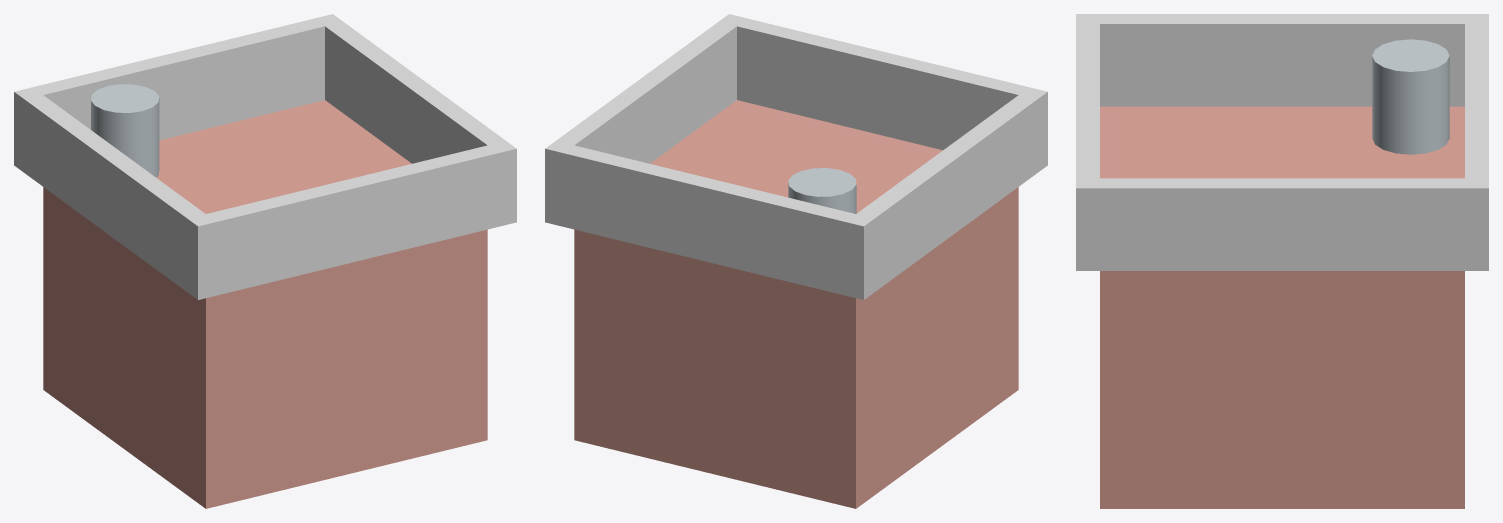
Rendered from building4.fbx.
The picture shows the model from 3 angles, left to right: view 1: azimuth 30°, elevation 25°; view 2: azimuth 150°, elevation 25°; view 3: azimuth 270°, elevation 25°; orthographic projection. The views are drawn at different scales.
Parts seen in each view (by area): view 1: Building3, Cube.008, Circle.002; view 2: Building3, Cube.008, Circle.002; view 3: Building3, Cube.008, Circle.002.
Part boxes in pixels (box(x1,y1,x2,y2)): Building3: box(43, 100, 487, 508); Cube.008: box(14, 14, 516, 299); Circle.002: box(91, 84, 159, 177); Building3: box(574, 100, 1018, 508); Cube.008: box(545, 14, 1047, 299); Circle.002: box(788, 168, 856, 213); Building3: box(1100, 106, 1464, 508); Cube.008: box(1076, 14, 1488, 270); Circle.002: box(1372, 39, 1449, 154).
Bounding box in the file's own units: 453 × 400 × 453.
